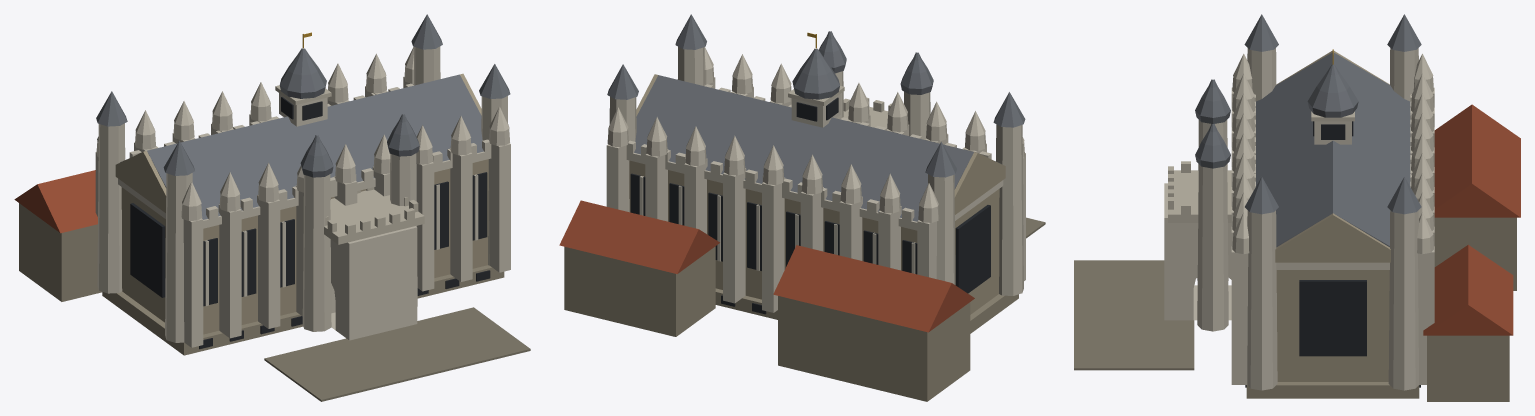
Rendered from guildhall.glb.
3 views of the same model, side by side, from view 1: azimuth 30°, elevation 25°; view 2: azimuth 150°, elevation 25°; view 3: azimuth 270°, elevation 25° (orthographic). The views are drawn at different scales.
Visible parts, largest first — view 1: guildhall; view 2: guildhall; view 3: guildhall.
Boxes of the visible parts, <box> form: guildhall: <box>14,14,530,401</box>; guildhall: <box>559,14,1045,401</box>; guildhall: <box>1074,14,1520,401</box>.
Bounding box in the file's own units: 60.4 × 39.2 × 59.5.
